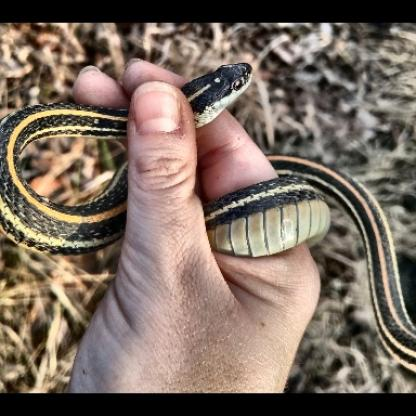Snake: (0, 54, 362, 284)
